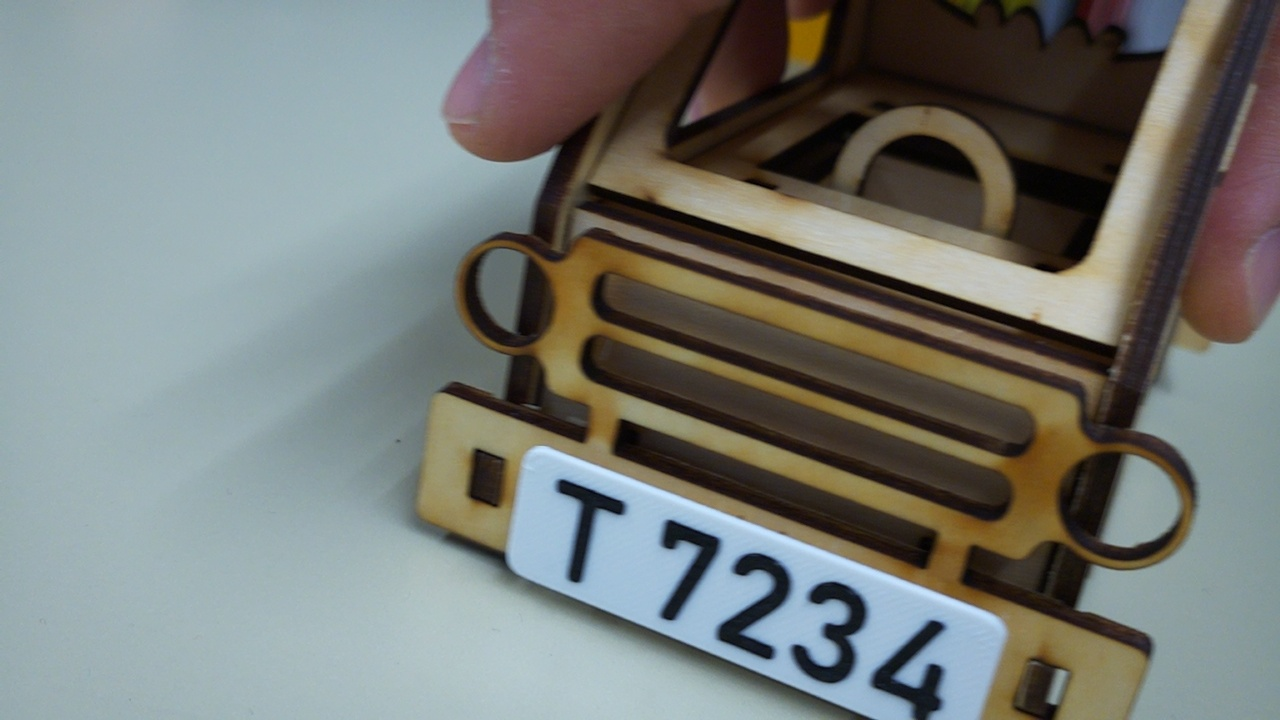license_plate: (507, 440, 1017, 720)
